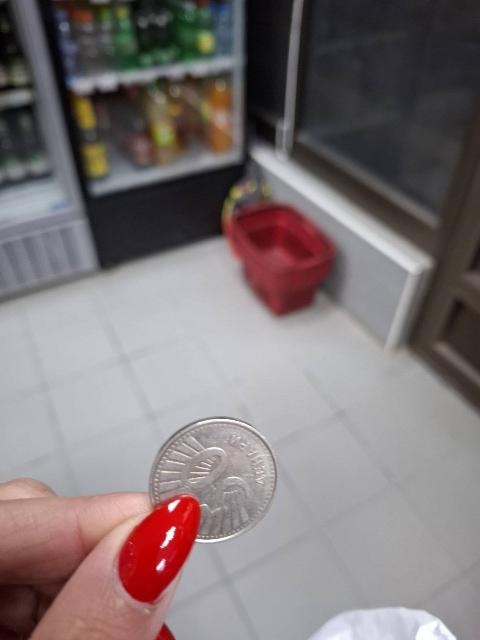coin: (149, 413, 281, 545)
